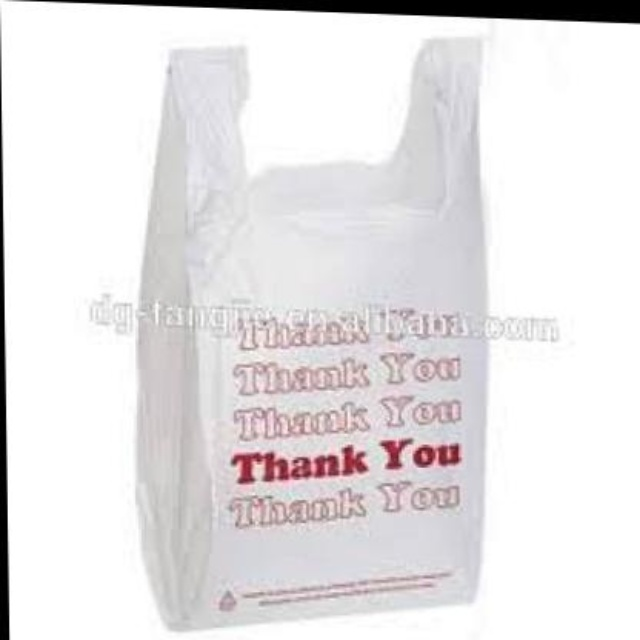trash: (138, 38, 494, 626)
